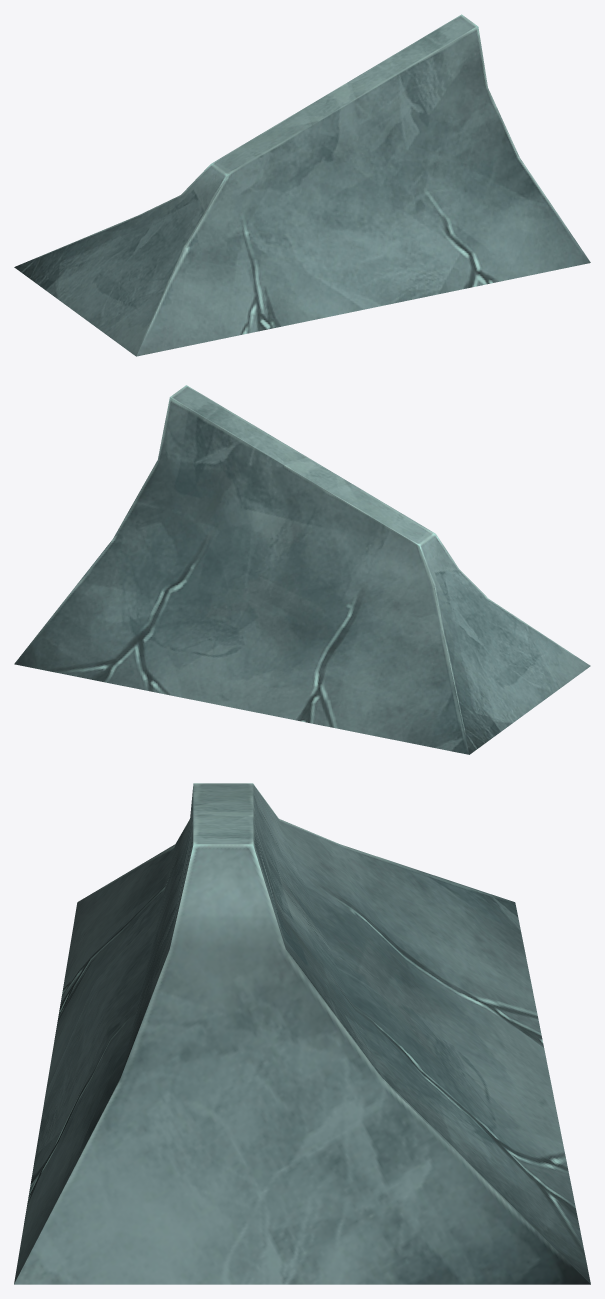
The model's file is Rock 2.fbx.
3 views of the same model, one above another, from view 1: azimuth 30°, elevation 25°; view 2: azimuth 150°, elevation 25°; view 3: azimuth 270°, elevation 25° (orthographic). The views are drawn at different scales.
Parts seen in each view (by area): view 1: pPlane6; view 2: pPlane6; view 3: pPlane6.
Boxes of the visible parts, x1,y1,x2,y2 form: pPlane6: (14, 14, 590, 356); pPlane6: (14, 385, 590, 754); pPlane6: (14, 783, 590, 1284).
Size of the model in its own units: 6.87 by 3.23 by 4.38.
